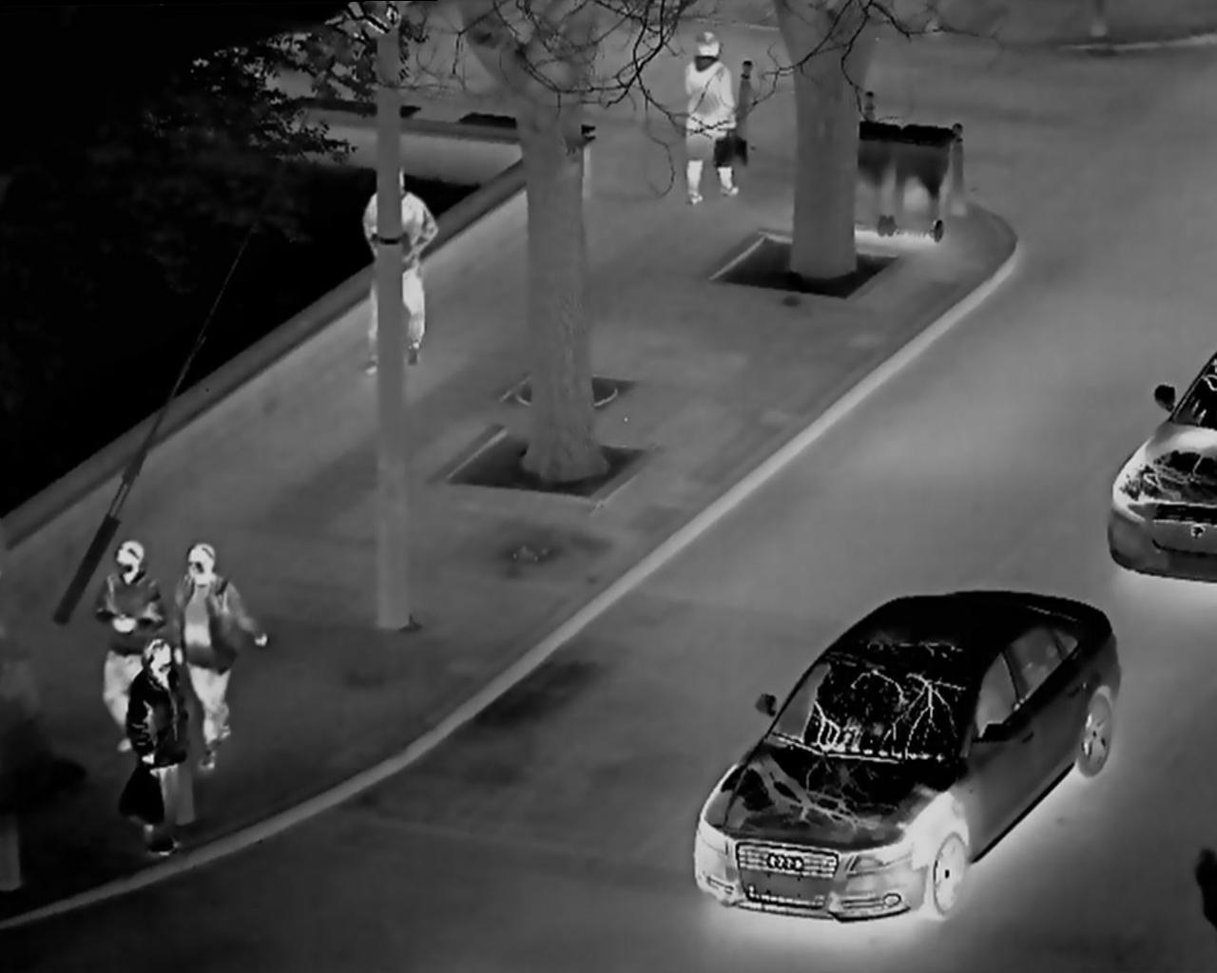person: (169, 537, 278, 768), (118, 623, 220, 859), (362, 158, 450, 385), (88, 530, 169, 735), (676, 16, 746, 217)
